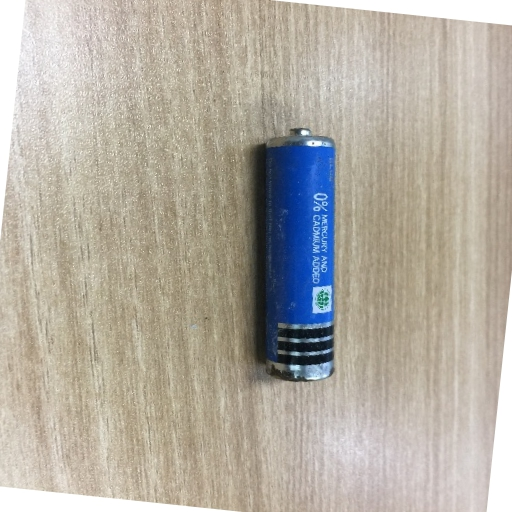Battery_0: (243, 122, 350, 392)
